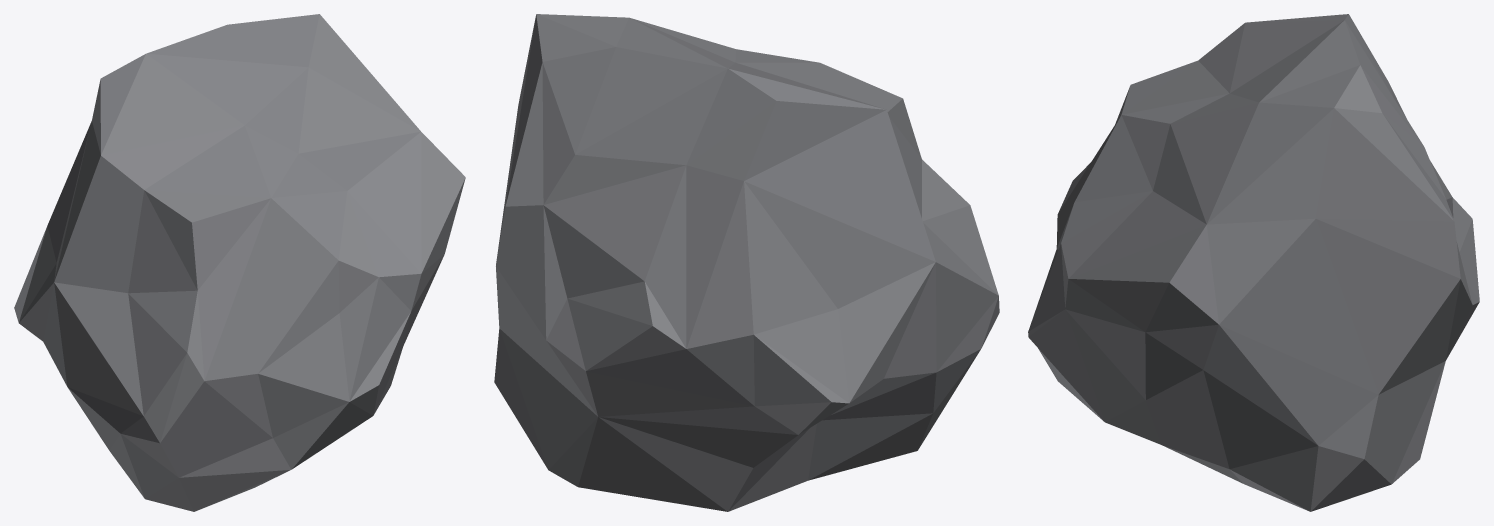
Rendered from SM_rock2.fbx.
3 views of the same model, side by side, from view 1: azimuth 30°, elevation 25°; view 2: azimuth 150°, elevation 25°; view 3: azimuth 270°, elevation 25° (orthographic). The views are drawn at different scales.
Visible parts, largest first — view 1: SM_rock2; view 2: SM_rock2; view 3: SM_rock2.
Part boxes in pixels (box(x1,y1,x2,y2)): SM_rock2: box(14, 14, 465, 511); SM_rock2: box(494, 14, 999, 511); SM_rock2: box(1028, 14, 1479, 511).
Bounding box in the file's own units: 1.3 × 1.23 × 1.25.
1 material, 1 textured.
